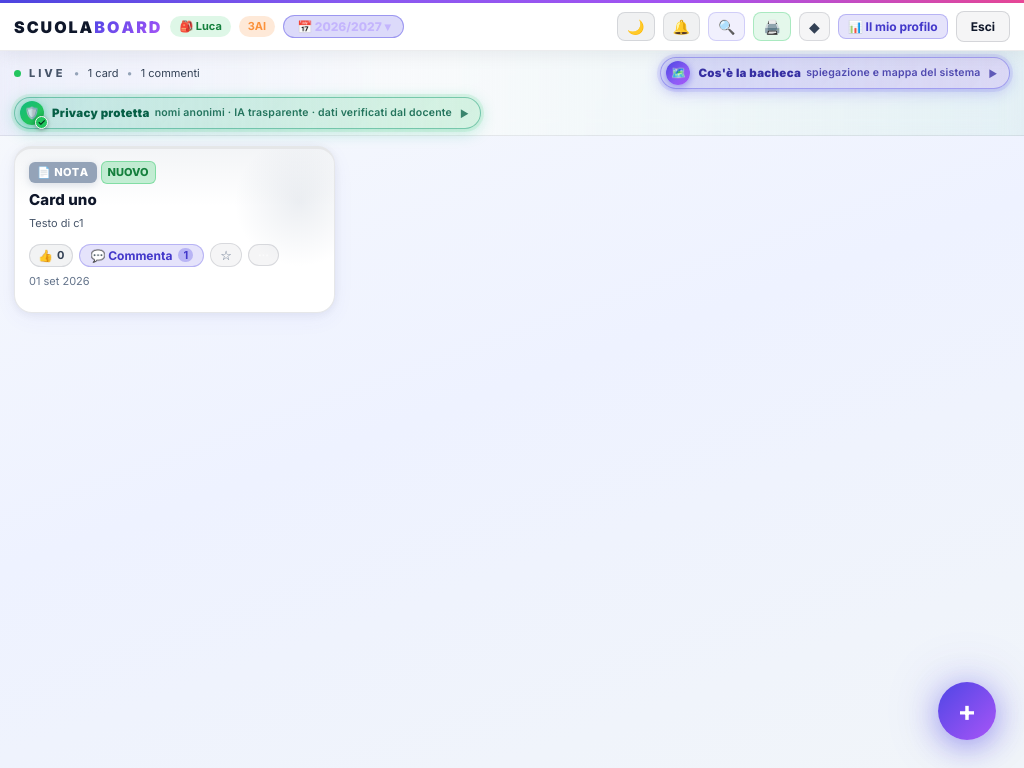
Test: Modifica ed elimina il proprio commento › lo studente elimina il proprio commento con conferma
The image size is (1024, 768).
Click the text "Card uno": (63, 199) [29,190,97,208]
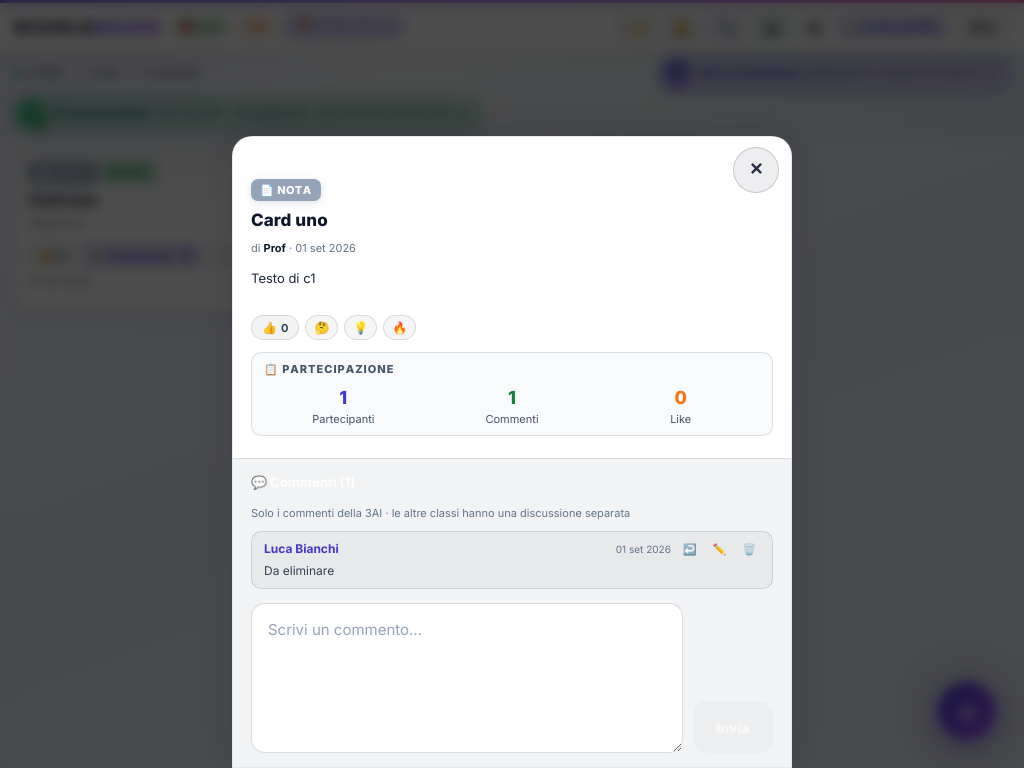
Expected: the text "Da eliminare" is shown, [264,563,334,578]
Click the button named "Elimina commento": (749, 549) [738,542,760,556]
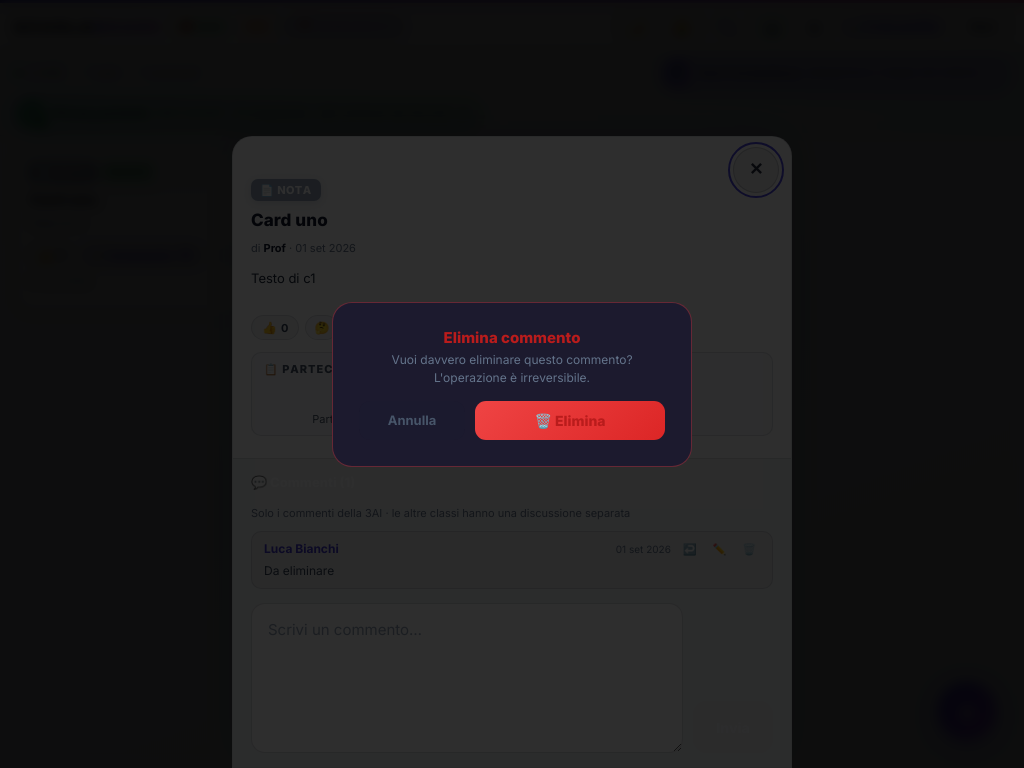
Expected: the heading "Elimina commento" is shown, [444,328,580,346]
Click the button "🗑️ Elimina": (570, 420) [475,400,665,440]
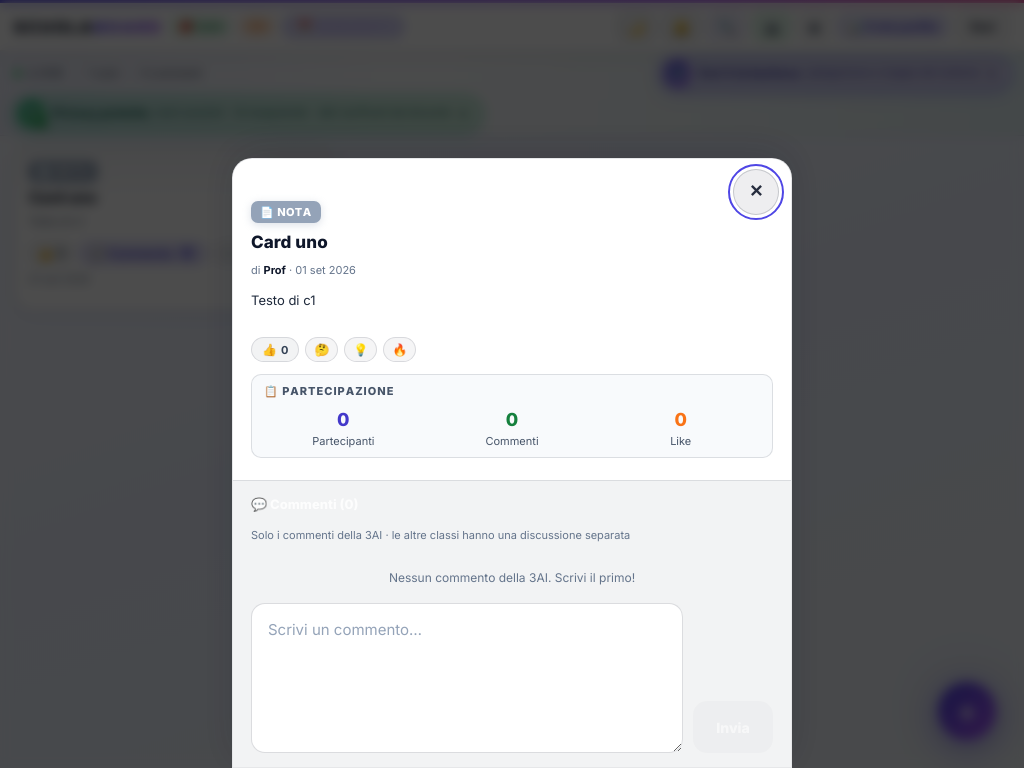
Expected: the text "Da eliminare" is gone
